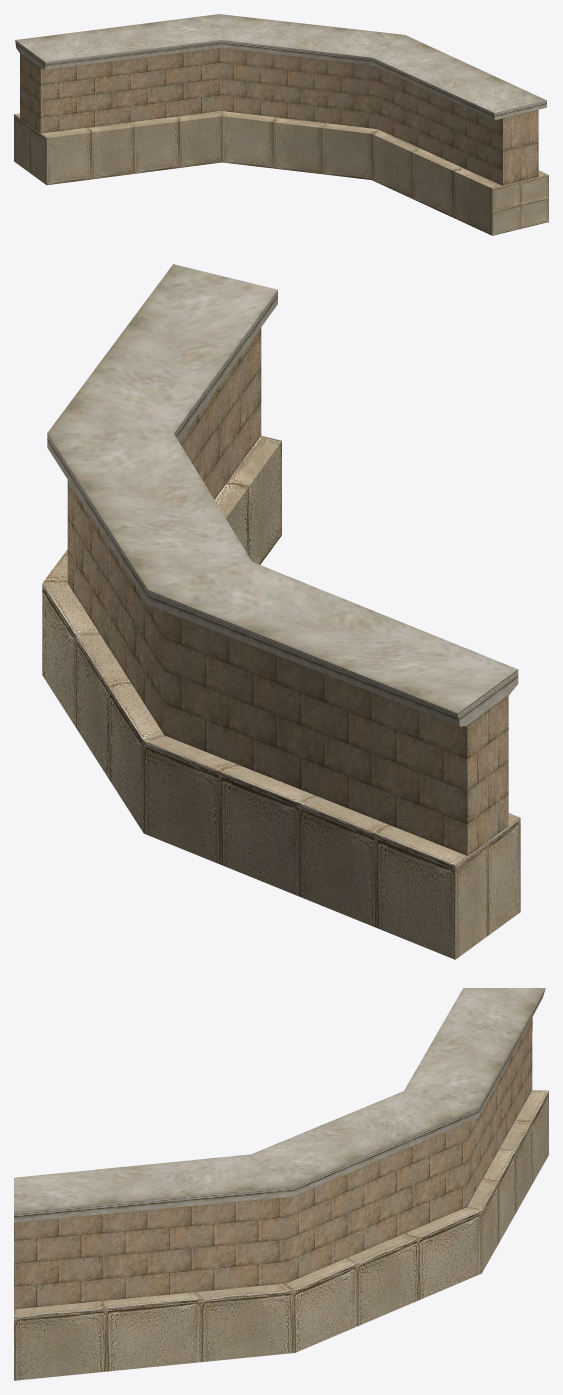
Rendered from thm_nboo_imprv_tall_curved_wall_large_s01_l1.fbx.
3 renders of one model, top to bottom at view 1: azimuth 30°, elevation 25°; view 2: azimuth 150°, elevation 25°; view 3: azimuth 270°, elevation 25°, orthographic. The views are drawn at different scales.
Visible parts, largest first — view 1: mesh_node; view 2: mesh_node; view 3: mesh_node.
Boxes of the visible parts, bbox=[...] form: mesh_node: bbox=[14, 14, 548, 235]; mesh_node: bbox=[42, 264, 520, 959]; mesh_node: bbox=[14, 988, 548, 1380].
Bounding box in the file's own units: 8.72 × 3.01 × 8.73.
